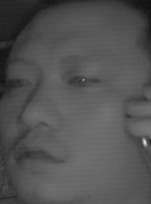eye: (64, 70, 100, 92), (8, 72, 34, 92)
mouth: (10, 137, 66, 172)
